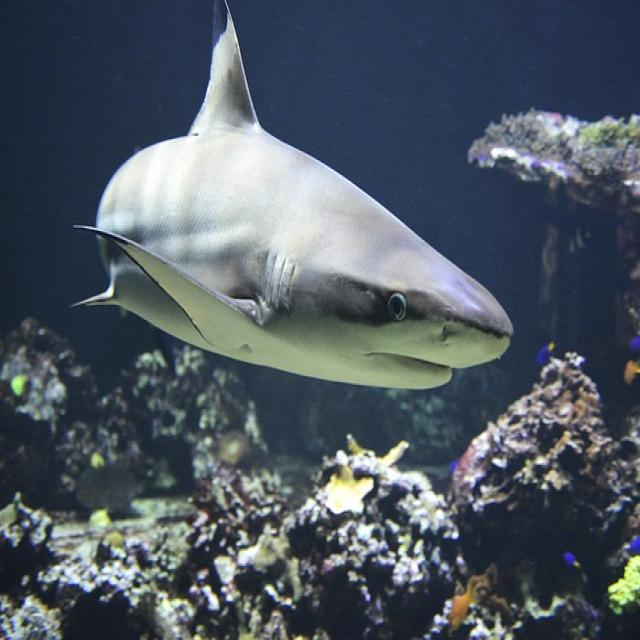Carnivorous: (77, 0, 513, 389)
